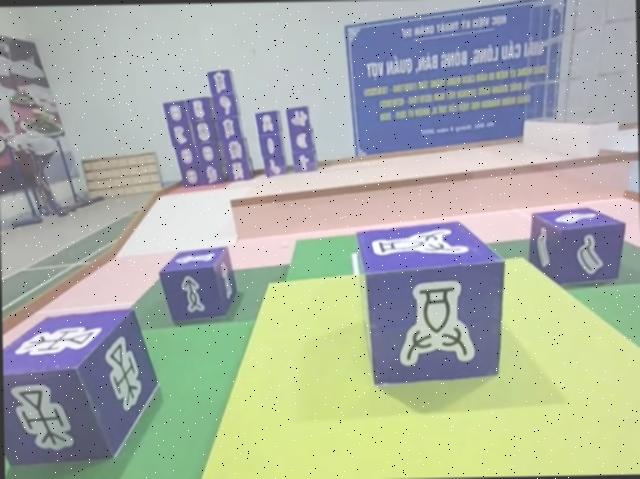R2 Real Blue: (356, 215, 507, 391), (1, 309, 157, 469), (526, 208, 625, 290), (158, 246, 239, 324)
